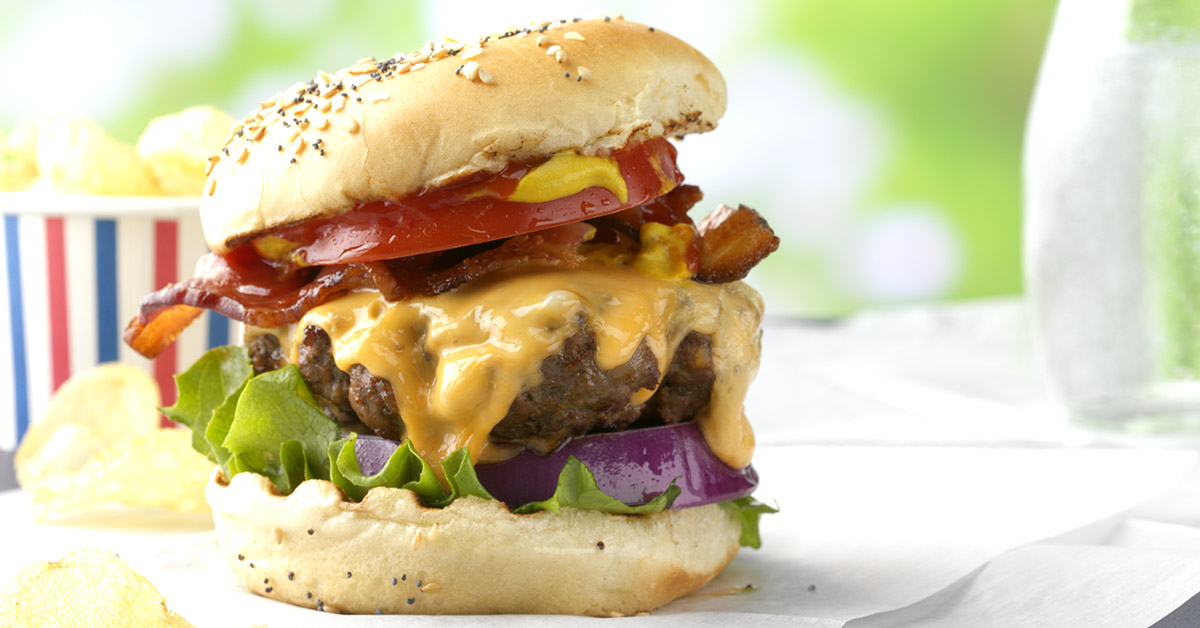hamburger: (121, 12, 846, 602)
